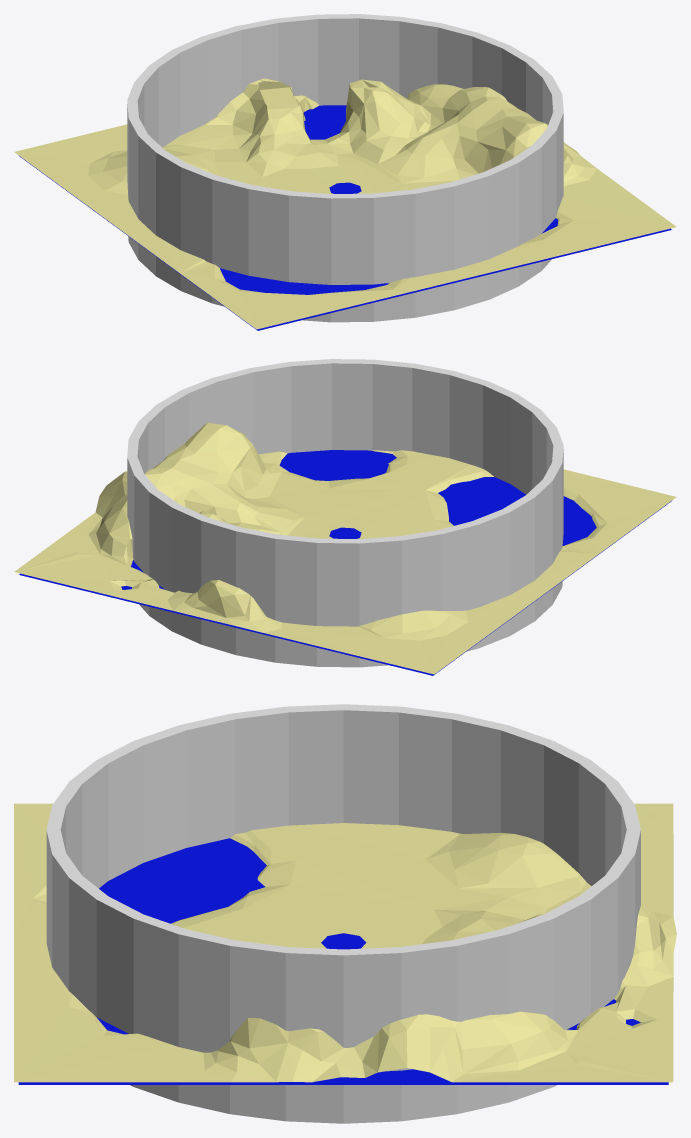
The model's file is wwmap_2.fbx.
3 renders of one model, top to bottom at view 1: azimuth 30°, elevation 25°; view 2: azimuth 150°, elevation 25°; view 3: azimuth 270°, elevation 25°, orthographic. The views are drawn at different scales.
Visible parts, largest first — view 1: Wall, Sand, Water; view 2: Wall, Sand, Water; view 3: Wall, Sand, Water.
Boxes of the visible parts, left/top/right/bottom form: Wall: left=127, top=14, right=563, bottom=322; Sand: left=14, top=78, right=676, bottom=329; Water: left=19, top=105, right=671, bottom=330; Wall: left=127, top=359, right=563, bottom=667; Sand: left=14, top=423, right=676, bottom=674; Water: left=19, top=450, right=671, bottom=675; Wall: left=46, top=704, right=640, bottom=1123; Sand: left=14, top=803, right=676, bottom=1082; Water: left=18, top=838, right=668, bottom=1084.
Size of the model in its own units: 35980 by 35690 by 10000.
